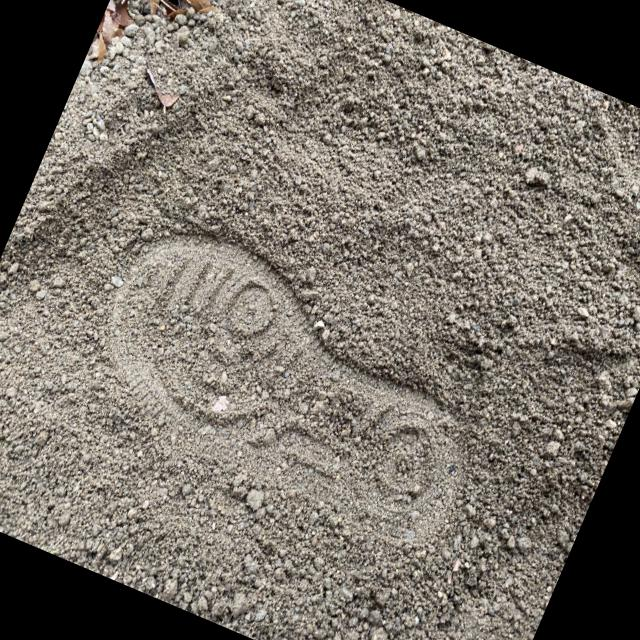human_footprint: (120, 150, 508, 552)
